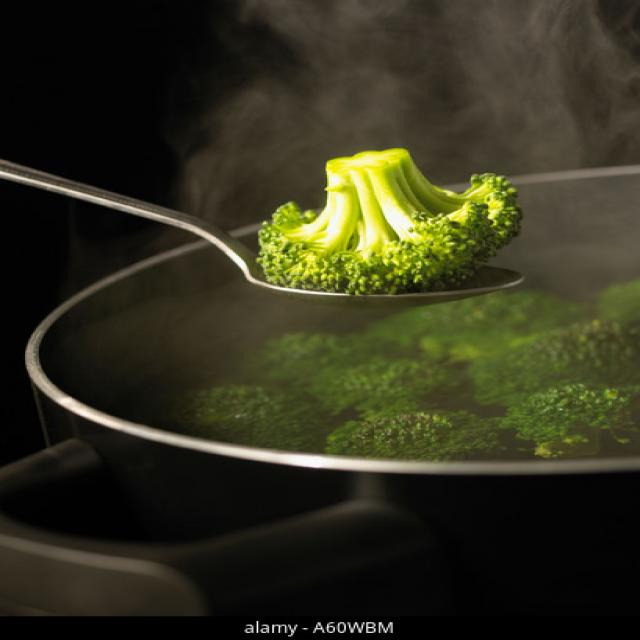broccoli: (256, 149, 522, 294)
